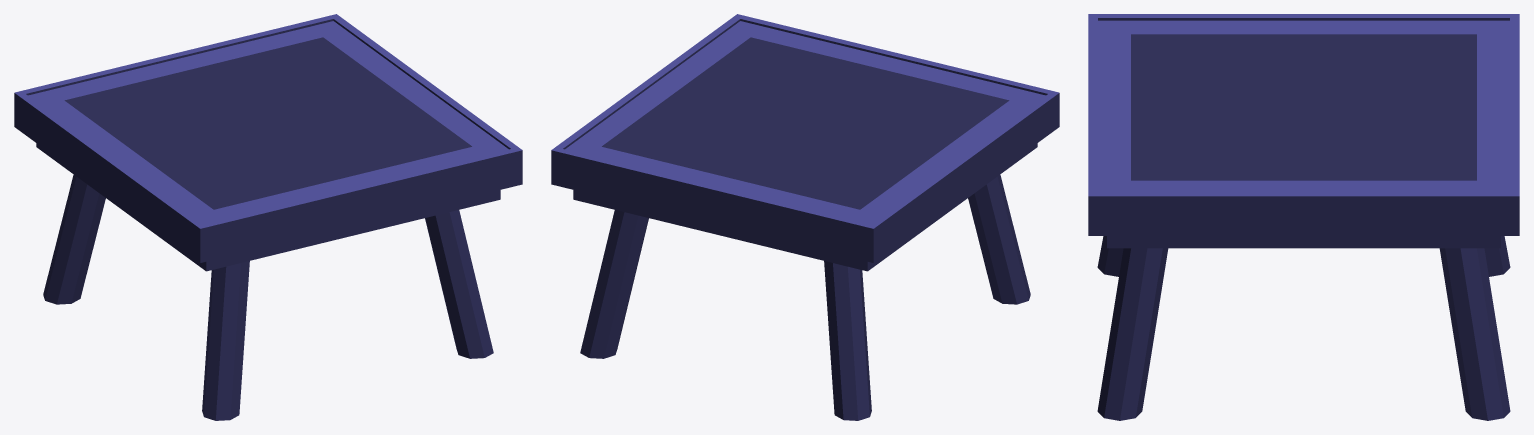
Rendered from Prop_Table_06.fbx.
The picture shows the model from 3 angles, left to right: view 1: azimuth 30°, elevation 25°; view 2: azimuth 150°, elevation 25°; view 3: azimuth 270°, elevation 25°; orthographic projection. The views are drawn at different scales.
Parts seen in each view (by area): view 1: Prop_Table_06; view 2: Prop_Table_06; view 3: Prop_Table_06.
Part boxes in pixels (x1=…): Prop_Table_06: x1=14, y1=14, x2=522, y2=420; Prop_Table_06: x1=551, y1=14, x2=1059, y2=420; Prop_Table_06: x1=1088, y1=14, x2=1519, y2=420.
Size of the model in its own units: 100 by 60 by 100.
